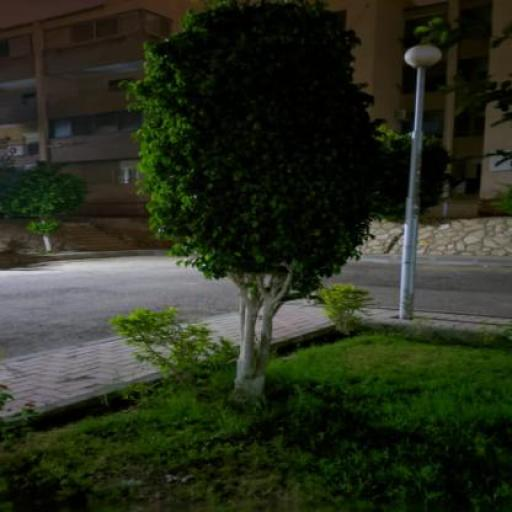street light: (396, 44, 443, 322)
